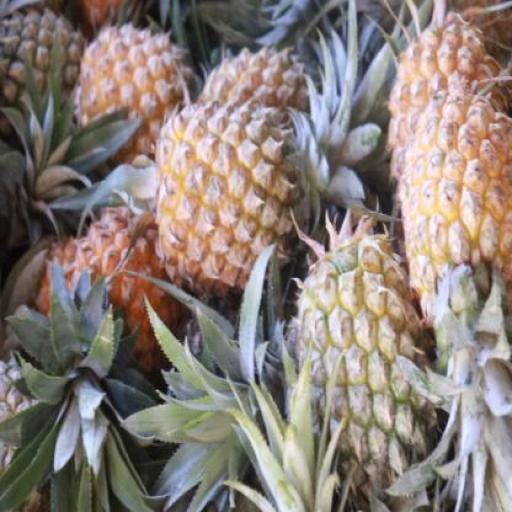------------------------------: (290, 241, 442, 501)
Pineapple - v8 v1: (400, 90, 512, 322), (158, 109, 296, 290), (33, 210, 174, 384), (72, 24, 190, 152)
